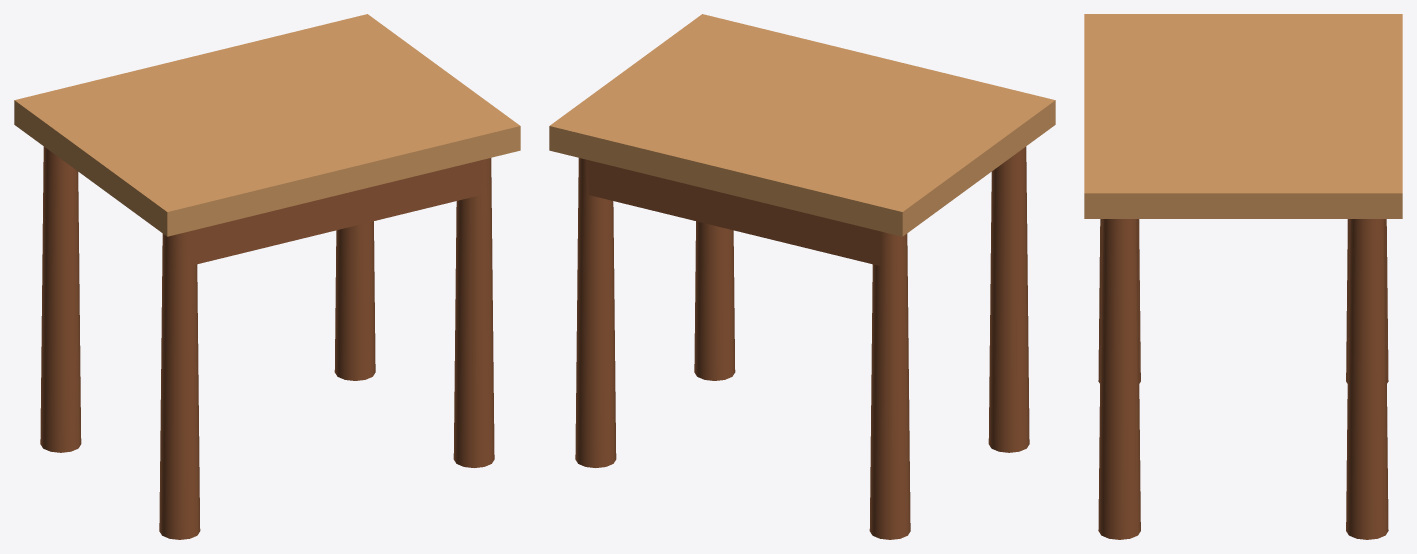
Rendered from mesa-auxiliar.glb.
3 renders of one model, left to right at view 1: azimuth 30°, elevation 25°; view 2: azimuth 150°, elevation 25°; view 3: azimuth 270°, elevation 25°, orthographic. The views are drawn at different scales.
Parts seen in each view (by area): view 1: Tablero, Pata (×4), Faldon frontal; view 2: Tablero, Pata (×4), Faldon trasero; view 3: Tablero, Pata (×4).
Boxes of the visible parts, box(x1,y1,x2,y2) form: Tablero: box(14, 14, 520, 236); Pata (×4): box(40, 146, 494, 539); Faldon frontal: box(188, 160, 482, 265); Tablero: box(549, 14, 1055, 236); Pata (×4): box(575, 146, 1029, 539); Faldon trasero: box(587, 160, 881, 265); Tablero: box(1084, 14, 1402, 218); Pata (×4): box(1098, 219, 1388, 539).
Size of the model in its own units: 0.6 by 0.55 by 0.45.
